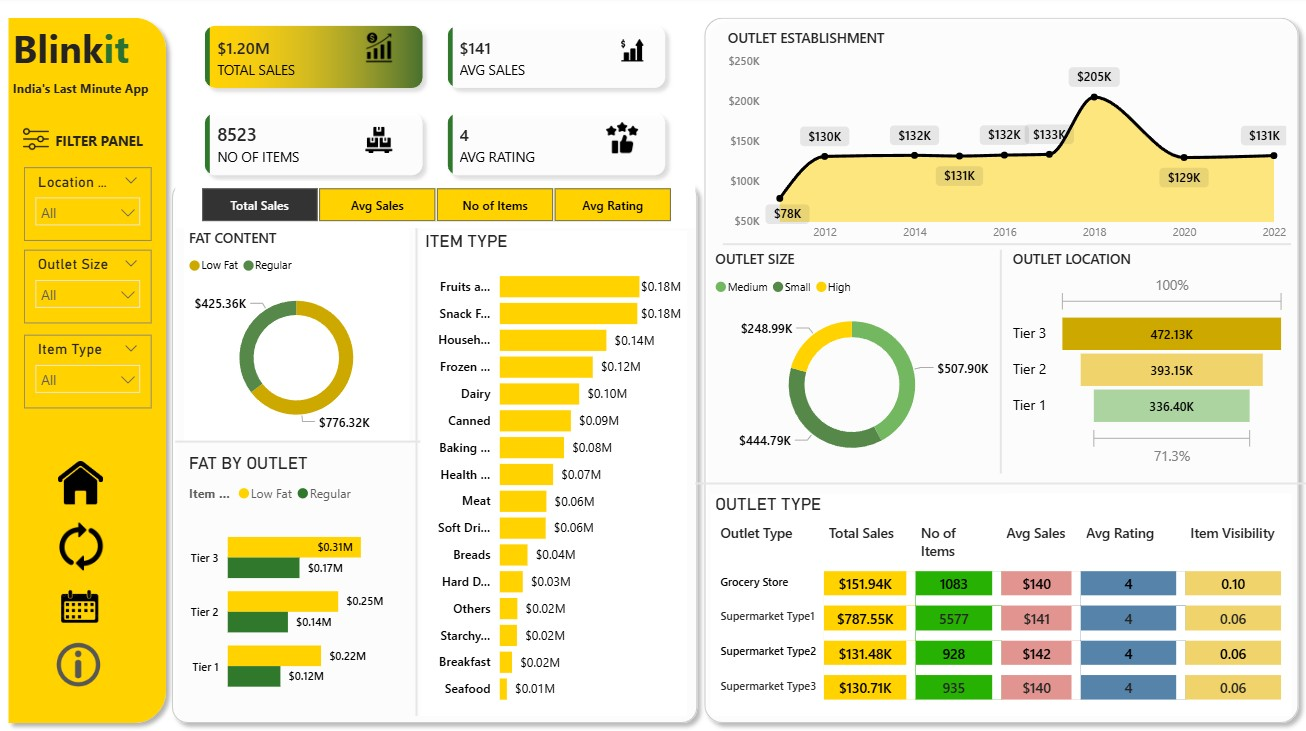

This screenshot's page, from the dashboard's own definition file:
{"tool":"powerbi","page":{"name":"Page 1","canvas":[1280,720],"ordinal":0},"visuals":[{"type":"shape","box":[0,12.2,172.4,708],"z":0},{"type":"textbox","box":[8.6,20.8,138.2,62.4],"z":1000},{"type":"textbox","box":[8.6,75.8,163.9,36.7],"z":2000},{"type":"cardVisual","fields":{"Data":["BlinkIT Grocery Data.Total Sales","BlinkIT Grocery Data.Avg Sales","BlinkIT Grocery Data.No of Items","BlinkIT Grocery Data.Avg Rating"]},"box":[172.4,0,508.7,204.2],"z":3000},{"type":"image","box":[352.2,35.5,39.1,29.3],"z":4000},{"type":"image","box":[599.2,41.6,40.4,23.2],"z":5000},{"type":"image","box":[342.4,127.2,58.7,26.9],"z":6000},{"type":"image","box":[579.6,123.5,59.9,30.6],"z":7000},{"type":"shape","box":[160.2,172.4,531.9,547.8],"z":8000},{"type":"shape","box":[681.1,12.2,599.2,708],"z":9000},{"type":"slicer","fields":{"Values":["Metrics.Metrics"]},"box":[172.4,181,508.7,46.5],"z":10000},{"type":"donutChart","title":"FAT CONTENT","fields":{"Y":["BlinkIT Grocery Data.Total Sales"],"Category":["BlinkIT Grocery Data.Item Fat Content"]},"box":[181,227.4,220.1,207.9],"z":11000},{"type":"barChart","title":"ITEM TYPE","fields":{"Y":["BlinkIT Grocery Data.Total Sales"],"Category":["BlinkIT Grocery Data.Item Type"]},"box":[412.1,229.9,260.5,474.5],"z":12000},{"type":"clusteredBarChart","title":"FAT BY OUTLET","fields":{"Y":["BlinkIT Grocery Data.Total Sales"],"Category":["BlinkIT Grocery Data.Outlet Location Type"],"Series":["BlinkIT Grocery Data.Item Fat Content"]},"box":[181,446.3,220.1,258],"z":13000},{"type":"shape","box":[172.4,425.5,239.7,20.8],"z":14000},{"type":"shape","box":[404.8,227.4,7.3,476.9],"z":15000},{"type":"lineChart","title":"OUTLET ESTABLISHMENT","fields":{"Category":["BlinkIT Grocery Data.Outlet Establishment Year"],"Y":["BlinkIT Grocery Data.Total Sales"]},"box":[708,31.8,556.4,216.4],"z":16000},{"type":"shape","box":[708,237.2,556.4,11],"z":17000},{"type":"donutChart","title":"OUTLET SIZE","fields":{"Y":["BlinkIT Grocery Data.Total Sales"],"Category":["BlinkIT Grocery Data.Outlet Size","BlinkIT Grocery Data.Item Fat Content"]},"box":[695.8,248.2,277.6,218.9],"z":18000},{"type":"shape","box":[973.4,248.2,13.5,218.9],"z":19000},{"type":"funnel","title":"OUTLET LOCATION","fields":{"Y":["Sum(BlinkIT Grocery Data.Sales)"],"Category":["BlinkIT Grocery Data.Outlet Location Type"]},"box":[986.8,248.2,277.6,217.7],"z":20000},{"type":"shape","box":[681.1,467.1,599.2,19.6],"z":21000},{"type":"pivotTable","title":"OUTLET TYPE","fields":{"Rows":["BlinkIT Grocery Data.Outlet Type"],"Values":["BlinkIT Grocery Data.Total Sales","BlinkIT Grocery Data.No of Items","BlinkIT Grocery Data.Avg Sales","BlinkIT Grocery Data.Avg Rating","Avg(BlinkIT Grocery Data.Item Visibility)"]},"box":[695.8,486.7,568.6,217.7],"z":22000},{"type":"slicer","fields":{"Values":["BlinkIT Grocery Data.Outlet Size"]},"box":[24.5,248.2,124.7,72.1],"z":23000},{"type":"slicer","fields":{"Values":["BlinkIT Grocery Data.Item Type"]},"box":[24.5,331.4,124.7,72.1],"z":24000},{"type":"slicer","fields":{"Values":["BlinkIT Grocery Data.Outlet Location Type"]},"box":[24.5,167.5,124.7,72.1],"z":25000},{"type":"textbox","box":[35.5,127.2,124.7,30.6],"z":26000},{"type":"image","box":[7.3,123.5,57.5,33],"z":27000},{"type":"image","box":[48.9,508.7,57.5,58.7],"z":28000},{"type":"image","box":[48.9,576,59.9,42.8],"z":29000},{"type":"image","box":[48.9,631,57.5,46.5],"z":30000},{"type":"image","box":[51.4,454.9,57.5,42.8],"z":31000}]}

Visuals, with their boxes in screenshot pixels (x1, y1, x2, y2), scaled from the page's 1280x720 canvas onto the 1306x731 screenshot:
shape: pyautogui.locateOnScreen(0, 12, 176, 730)
textbox: pyautogui.locateOnScreen(9, 21, 150, 84)
textbox: pyautogui.locateOnScreen(9, 77, 176, 114)
cardVisual - BlinkIT Grocery Data.Total Sales x BlinkIT Grocery Data.Avg Sales: pyautogui.locateOnScreen(176, 0, 695, 207)
image: pyautogui.locateOnScreen(359, 36, 399, 66)
image: pyautogui.locateOnScreen(611, 42, 653, 66)
image: pyautogui.locateOnScreen(349, 129, 409, 156)
image: pyautogui.locateOnScreen(591, 125, 652, 156)
shape: pyautogui.locateOnScreen(163, 175, 706, 730)
shape: pyautogui.locateOnScreen(695, 12, 1305, 730)
slicer - Metrics.Metrics: pyautogui.locateOnScreen(176, 184, 695, 231)
"FAT CONTENT" donutChart: pyautogui.locateOnScreen(185, 231, 409, 442)
"ITEM TYPE" barChart: pyautogui.locateOnScreen(420, 233, 686, 715)
"FAT BY OUTLET" clusteredBarChart: pyautogui.locateOnScreen(185, 453, 409, 715)
shape: pyautogui.locateOnScreen(176, 432, 420, 453)
shape: pyautogui.locateOnScreen(413, 231, 420, 715)
"OUTLET ESTABLISHMENT" lineChart: pyautogui.locateOnScreen(722, 32, 1290, 252)
shape: pyautogui.locateOnScreen(722, 241, 1290, 252)
"OUTLET SIZE" donutChart: pyautogui.locateOnScreen(710, 252, 993, 474)
shape: pyautogui.locateOnScreen(993, 252, 1007, 474)
"OUTLET LOCATION" funnel: pyautogui.locateOnScreen(1007, 252, 1290, 473)
shape: pyautogui.locateOnScreen(695, 474, 1305, 494)
"OUTLET TYPE" pivotTable: pyautogui.locateOnScreen(710, 494, 1290, 715)
slicer - BlinkIT Grocery Data.Outlet Size: pyautogui.locateOnScreen(25, 252, 152, 325)
slicer - BlinkIT Grocery Data.Item Type: pyautogui.locateOnScreen(25, 336, 152, 410)
slicer - BlinkIT Grocery Data.Outlet Location Type: pyautogui.locateOnScreen(25, 170, 152, 243)
textbox: pyautogui.locateOnScreen(36, 129, 163, 160)
image: pyautogui.locateOnScreen(7, 125, 66, 159)
image: pyautogui.locateOnScreen(50, 516, 109, 576)
image: pyautogui.locateOnScreen(50, 585, 111, 628)
image: pyautogui.locateOnScreen(50, 641, 109, 688)
image: pyautogui.locateOnScreen(52, 462, 111, 505)
